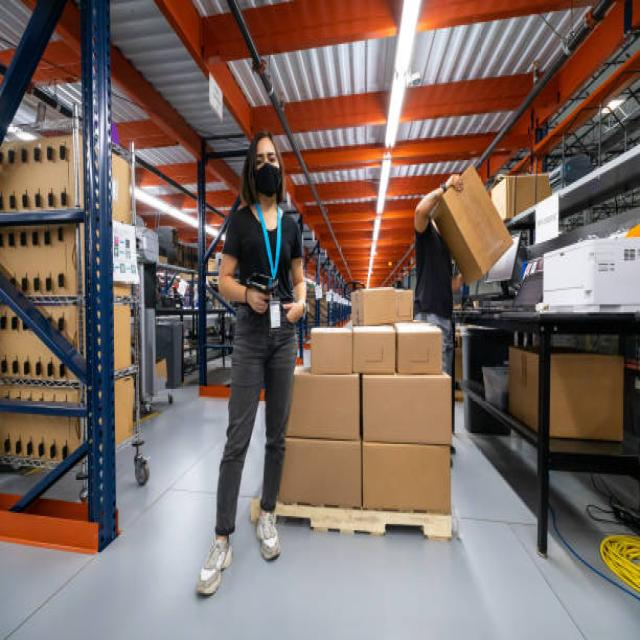Wooden-Pallets: (286, 501, 453, 549)
